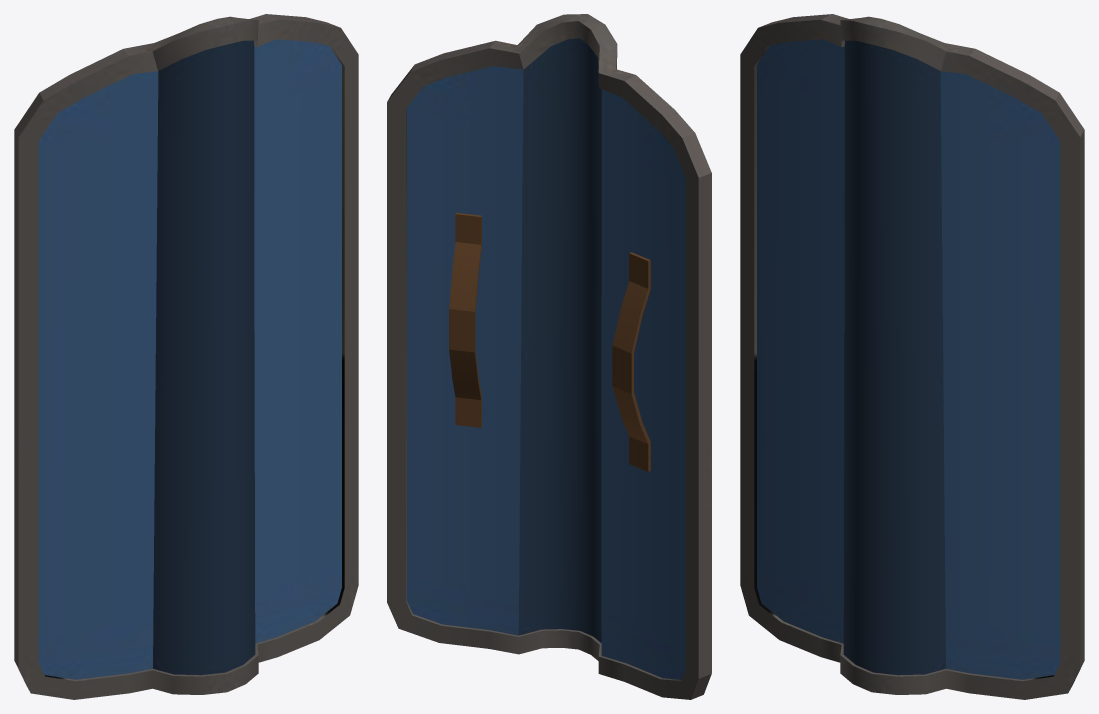
File: Pavise Shield_Blue.fbx
The picture shows the model from 3 angles, left to right: view 1: azimuth 30°, elevation 25°; view 2: azimuth 150°, elevation 25°; view 3: azimuth 330°, elevation 25°; orthographic projection. The views are drawn at different scales.
Visible parts, largest first — view 1: Pavise Shield_Blue_Baked; view 2: Pavise Shield_Blue_Baked; view 3: Pavise Shield_Blue_Baked.
Boxes of the visible parts, left/top/right/bottom form: Pavise Shield_Blue_Baked: left=14, top=14, right=358, bottom=699; Pavise Shield_Blue_Baked: left=387, top=14, right=711, bottom=699; Pavise Shield_Blue_Baked: left=740, top=14, right=1084, bottom=699.
Size of the model in its own units: 65.21 by 122 by 16.93.
Materials: 1 (1 with a texture image).
